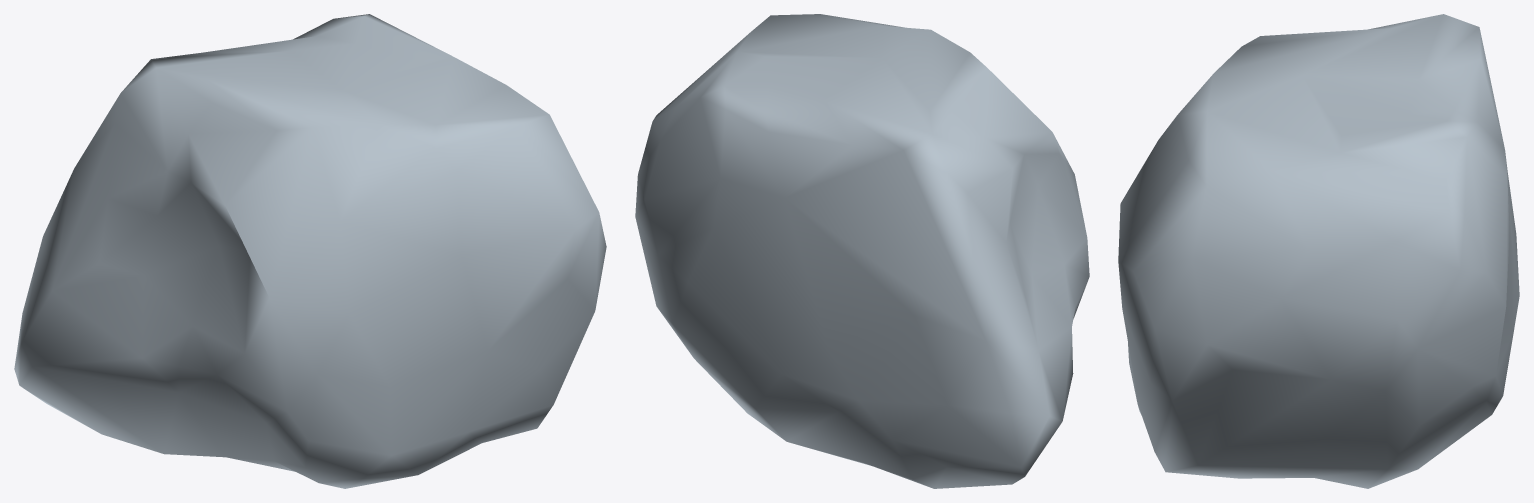
File: itch_assetquest_pond_rock_1b.glb
3 views of the same model, side by side, from view 1: azimuth 30°, elevation 25°; view 2: azimuth 150°, elevation 25°; view 3: azimuth 270°, elevation 25° (orthographic). The views are drawn at different scales.
Parts seen in each view (by area): view 1: Rock_1b; view 2: Rock_1b; view 3: Rock_1b.
Part boxes in pixels (<box>): Rock_1b: <box>14,14,606,488</box>; Rock_1b: <box>635,14,1089,488</box>; Rock_1b: <box>1118,14,1519,488</box>.
Size of the model in its own units: 1.18 by 0.8636 by 0.8718.
